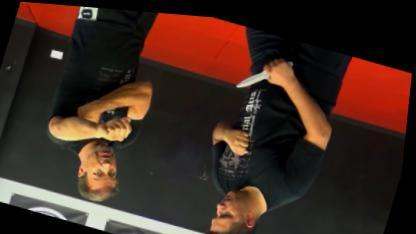knife: (232, 39, 300, 100)
